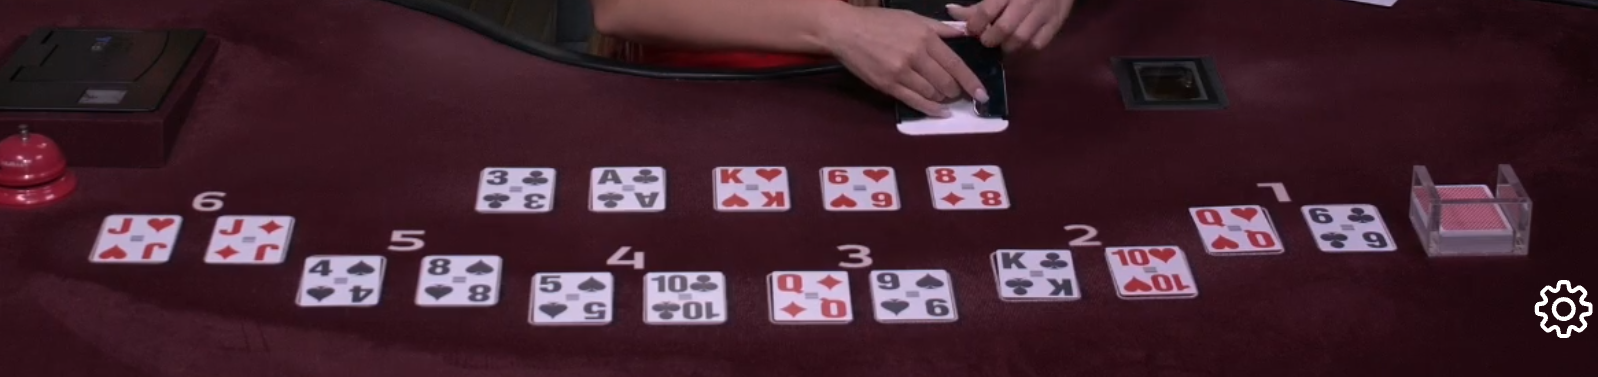10c: (637, 262, 734, 329)
10h: (1101, 243, 1201, 299)
3c: (470, 156, 560, 218)
4s: (297, 244, 383, 309)
5s: (529, 265, 618, 329)
6c: (1297, 195, 1398, 260)
6h: (813, 159, 906, 218)
8d: (921, 161, 1018, 218)
8s: (413, 248, 505, 308)
9s: (866, 261, 964, 330)
asc: (584, 160, 672, 217)
jd: (207, 206, 296, 271)
jh: (94, 205, 185, 264)
kc: (984, 240, 1086, 308)
kh: (711, 158, 802, 216)
qd: (761, 262, 859, 332)
qh: (1184, 198, 1290, 259)
